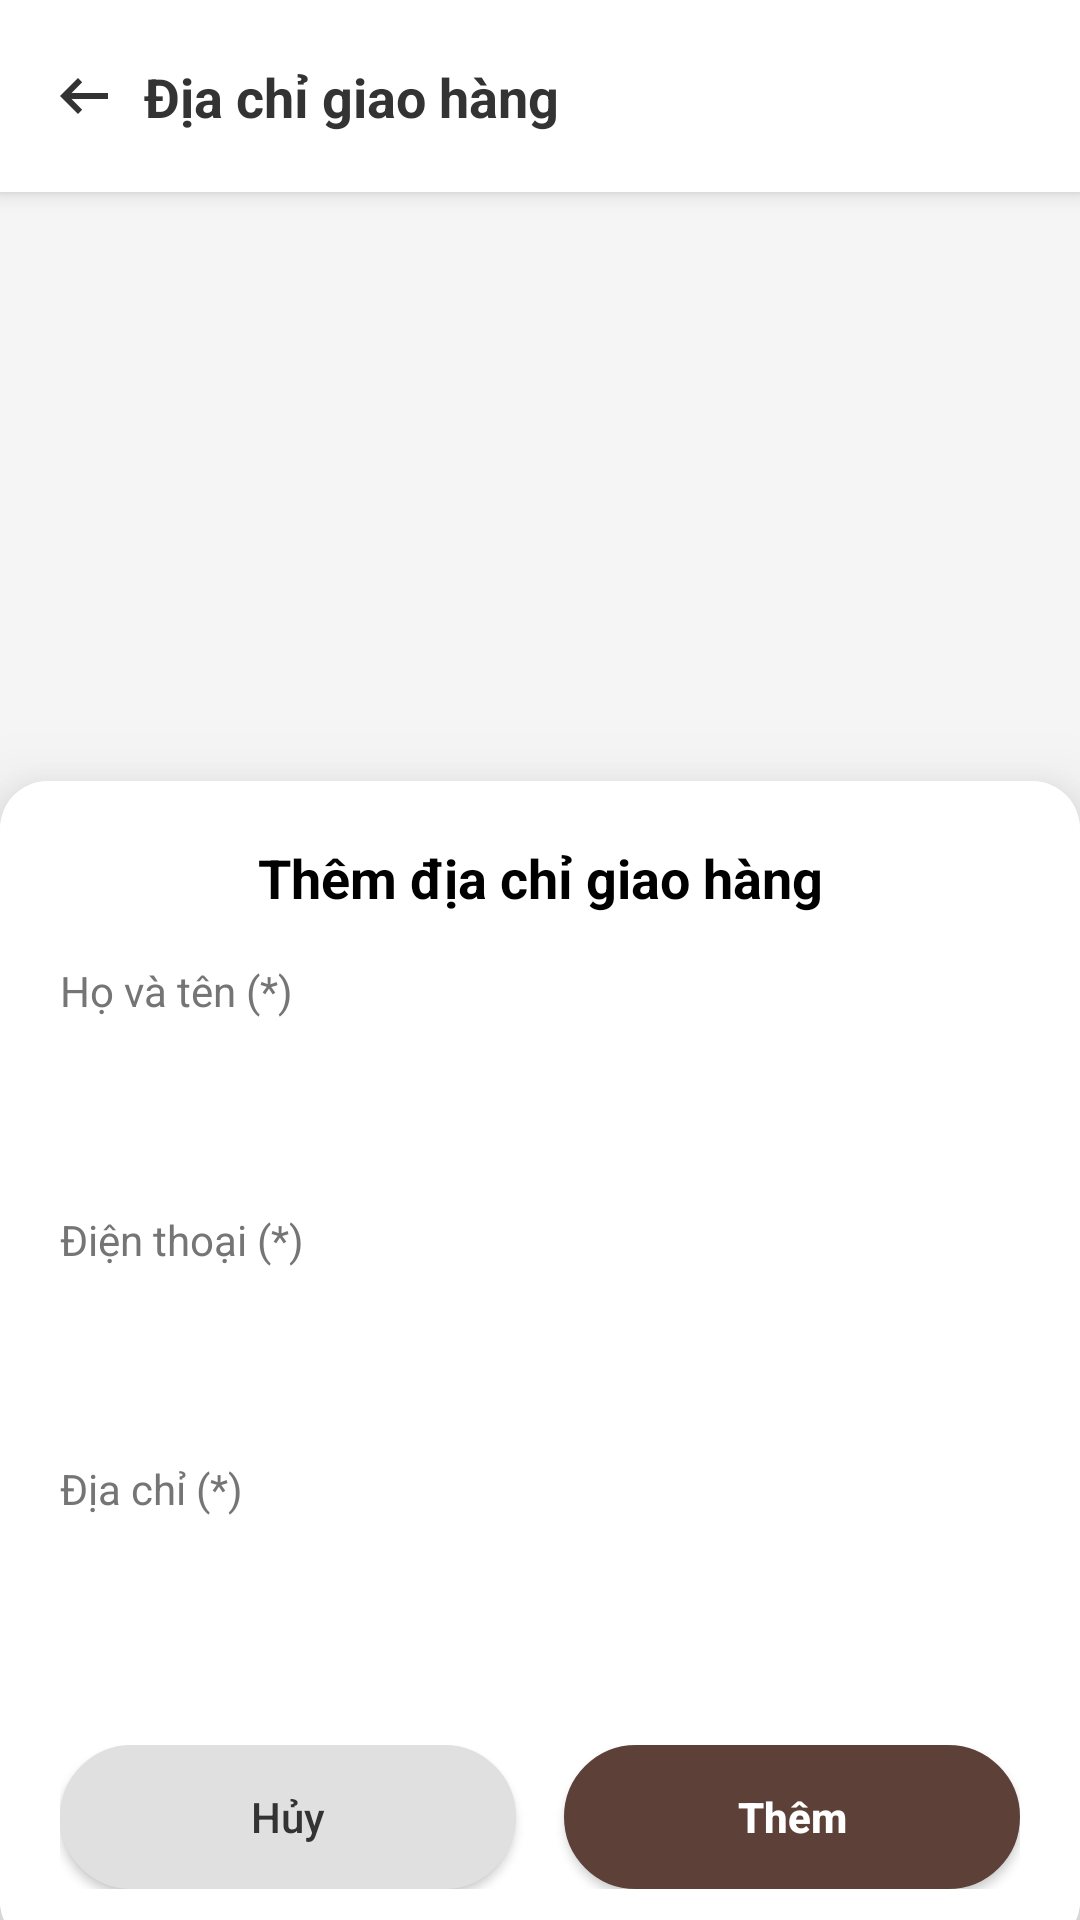

Where to tap for icons on this 1080 x 1920 app screen, as (x,y):
arrow back: (84,96)
